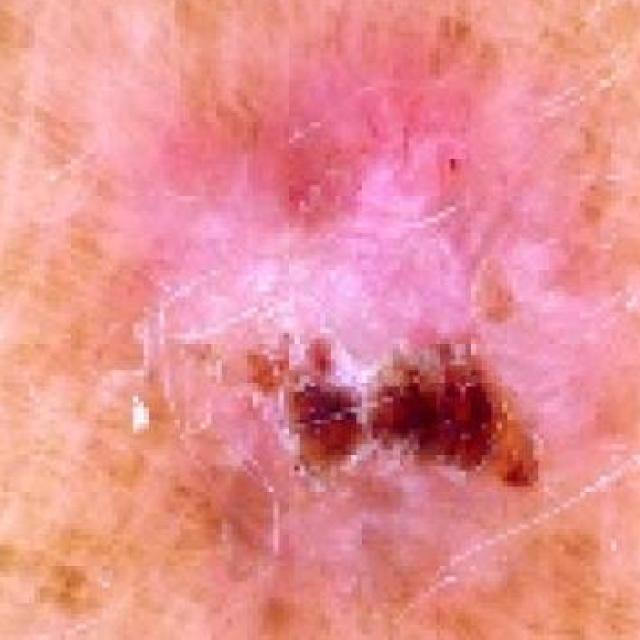BCC: (62, 44, 640, 640)
